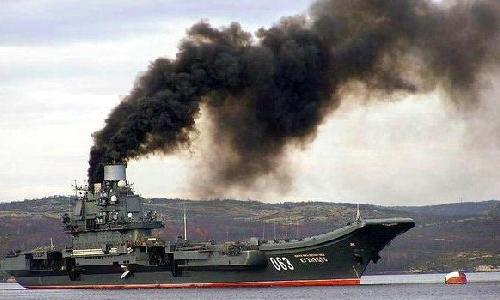smoke: (86, 1, 500, 162)
